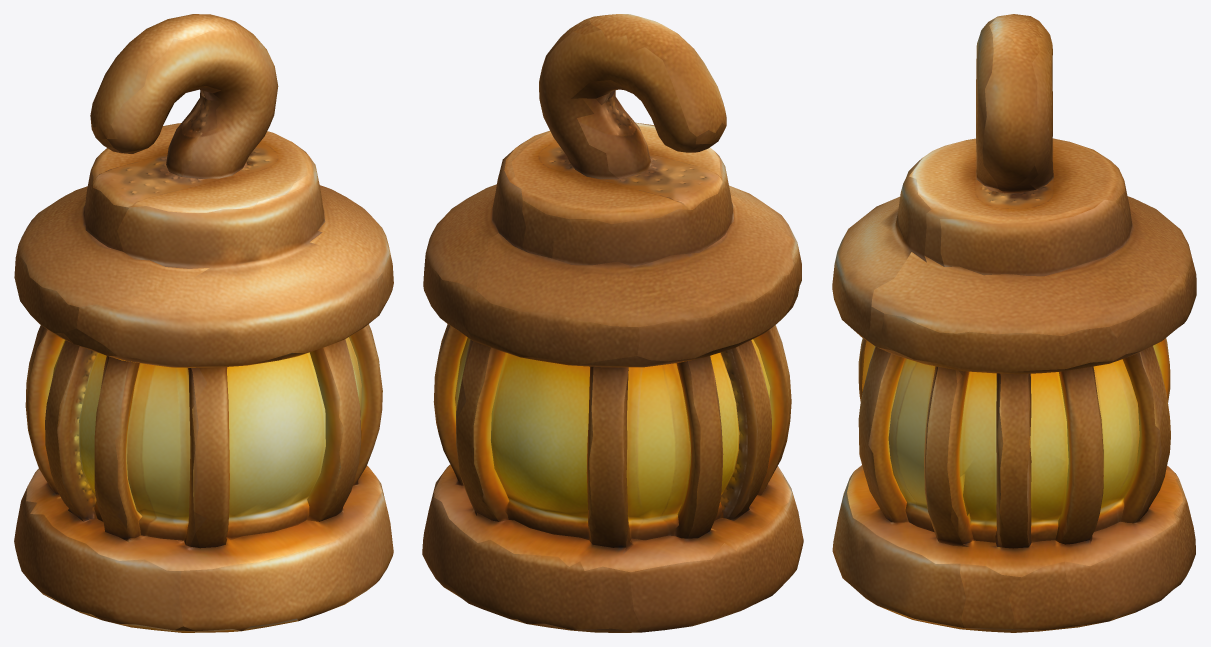
Rendered from mine-lantern.glb.
The picture shows the model from 3 angles, left to right: view 1: azimuth 30°, elevation 25°; view 2: azimuth 150°, elevation 25°; view 3: azimuth 270°, elevation 25°; orthographic projection. The views are drawn at different scales.
Visible parts, largest first — view 1: world; view 2: world; view 3: world.
Part boxes in pixels (x1,y1,x2,y2): world: [14, 14, 393, 632]; world: [422, 14, 803, 632]; world: [832, 14, 1196, 632].
Bounding box in the file's own units: 0.6351 × 0.9983 × 0.6255.
Materials: 1 (1 with a texture image).
